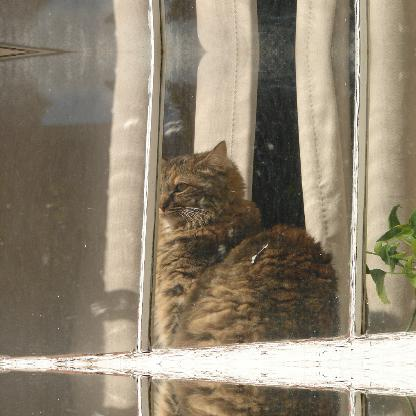Cat: (154, 133, 361, 345)
